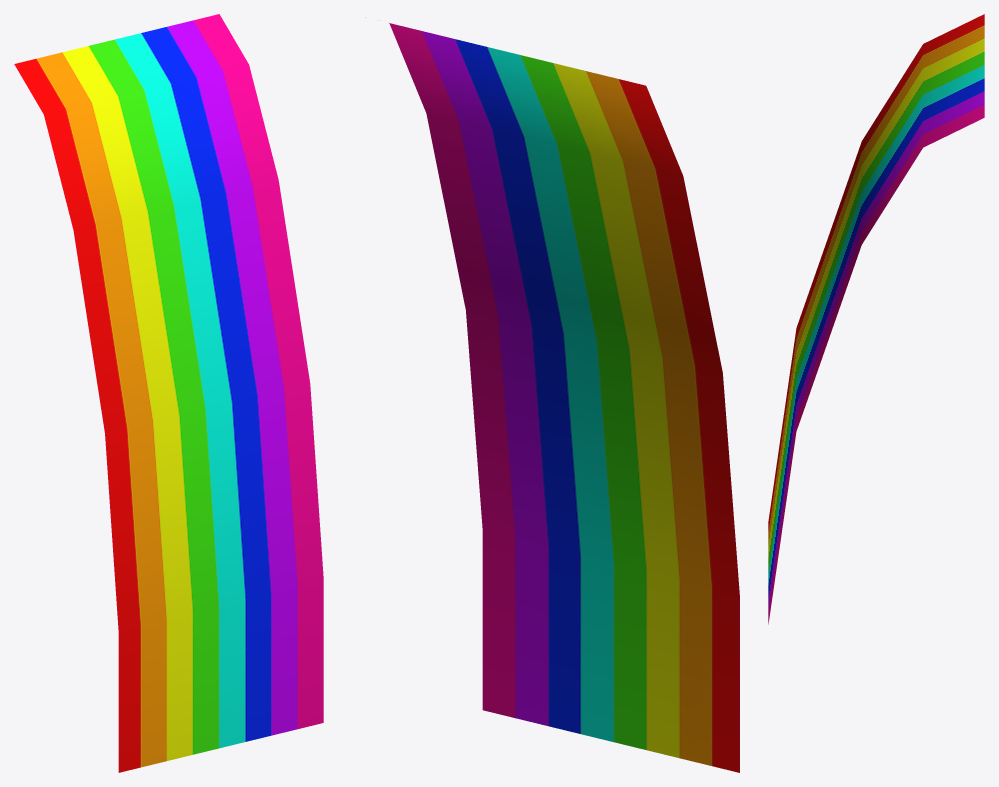
The model's file is Rainbow.FBX.
The picture shows the model from 3 angles, left to right: view 1: azimuth 30°, elevation 25°; view 2: azimuth 150°, elevation 25°; view 3: azimuth 270°, elevation 25°; orthographic projection. The views are drawn at different scales.
Visible parts, largest first — view 1: Rainbow; view 2: Rainbow; view 3: Rainbow.
Part boxes in pixels (x1=…): Rainbow: x1=14, y1=14, x2=323, y2=772; Rainbow: x1=389, y1=23, x2=739, y2=772; Rainbow: x1=768, y1=14, x2=984, y2=624.
Size of the model in its own units: 400 by 1178 by 352.
Materials: 1 (1 with a texture image).
